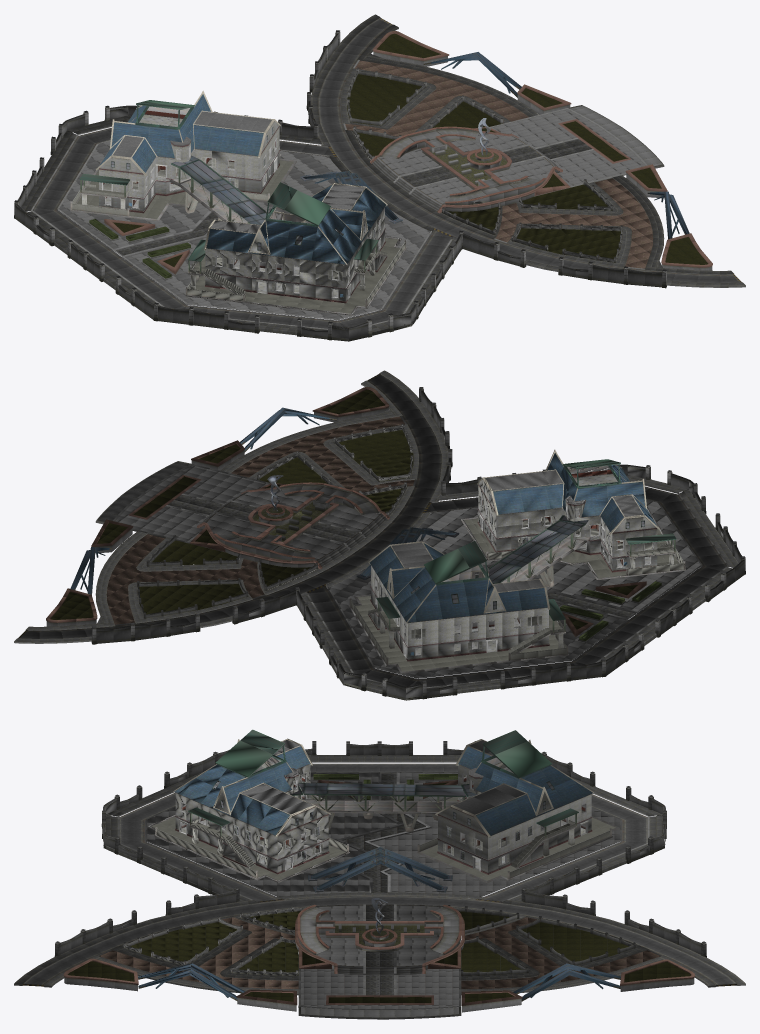
The model's file is Academy2.fbx.
3 renders of one model, top to bottom at view 1: azimuth 30°, elevation 25°; view 2: azimuth 150°, elevation 25°; view 3: azimuth 270°, elevation 25°, orthographic.
Parts seen in each view (by area): view 1: 6, 12, 7, 1.001_1.003, 3.007, 1.007, 4.006, 13, 4.001, 9.001, 4.005, 4 (+11 smaller); view 2: 6, 12, 7, 1.007, 3.007, 1.001_1.003, 4.005, 13, 4, 4.006, 9.001, 4.001 (+11 smaller); view 3: 6, 12, 7, 3.007, 1.007, 1.001_1.003, 4.006, 4.005, 13, 4.001, 4, 9.001 (+11 smaller).
Part boxes in pixels (<box>): 6: <box>318,19,738,282</box>; 12: <box>33,127,451,328</box>; 7: <box>311,14,745,287</box>; 1.001_1.003: <box>205,185,386,303</box>; 3.007: <box>14,30,666,341</box>; 1.007: <box>98,94,280,213</box>; 4.006: <box>185,182,407,315</box>; 13: <box>21,115,461,335</box>; 4.001: <box>442,179,622,262</box>; 9.001: <box>379,126,546,205</box>; 4.005: <box>70,90,296,221</box>; 4: <box>347,68,503,159</box>; 6: <box>21,375,441,638</box>; 12: <box>308,486,726,687</box>; 7: <box>14,370,448,643</box>; 1.007: <box>368,543,549,661</box>; 3.007: <box>91,387,745,700</box>; 1.001_1.003: <box>477,453,657,572</box>; 4.005: <box>348,541,568,673</box>; 13: <box>302,474,738,699</box>; 4: <box>137,535,317,618</box>; 4.006: <box>461,449,685,580</box>; 9.001: <box>214,482,380,560</box>; 4.001: <box>257,424,413,515</box>; 6: <box>24,896,735,1008</box>; 12: <box>119,763,647,902</box>; 7: <box>14,892,745,1019</box>; 3.007: <box>54,741,706,957</box>; 1.007: <box>437,746,592,874</box>; 1.001_1.003: <box>174,746,329,874</box>; 4.006: <box>147,729,349,882</box>; 4.005: <box>416,730,619,883</box>; 13: <box>105,755,664,902</box>; 4.001: <box>123,904,310,975</box>; 4: <box>448,905,635,976</box>; 9.001: <box>297,904,461,954</box>.
Bounding box in the file's own units: 13861 × 2111 × 16258.
